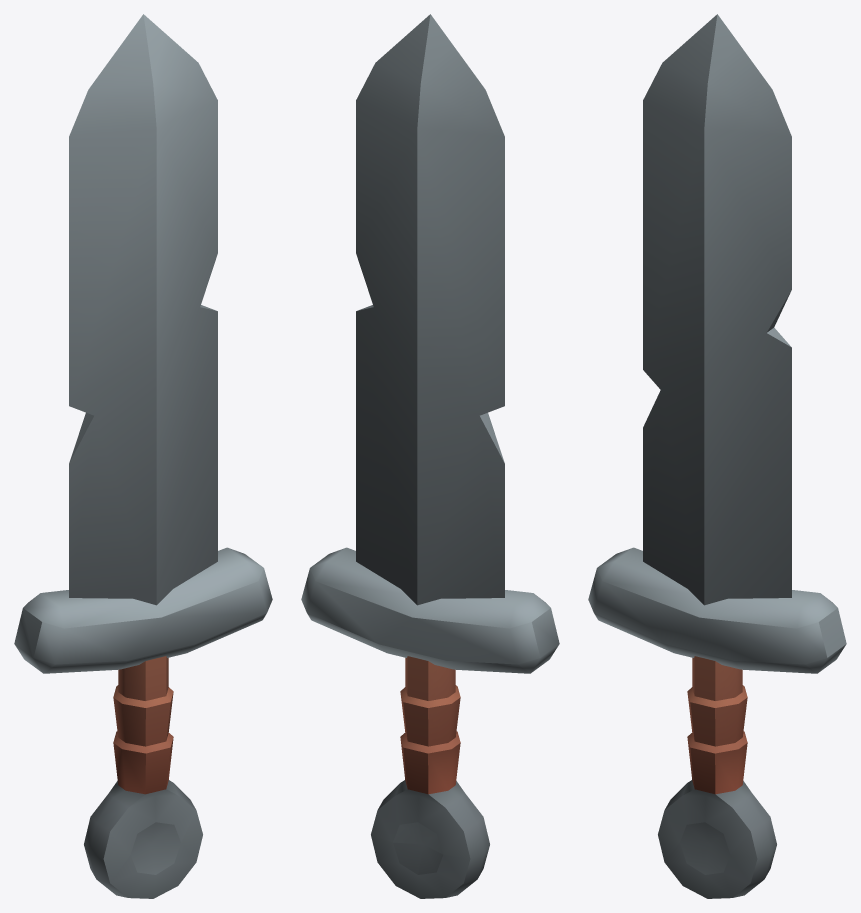
File: espada.glb
The picture shows the model from 3 angles, left to right: view 1: azimuth 30°, elevation 25°; view 2: azimuth 150°, elevation 25°; view 3: azimuth 330°, elevation 25°; orthographic projection.
Parts seen in each view (by area): view 1: sword_1handed; view 2: sword_1handed; view 3: sword_1handed.
Part boxes in pixels (<box>): sword_1handed: <box>14,14,272,898</box>; sword_1handed: <box>301,14,559,898</box>; sword_1handed: <box>588,14,846,898</box>.
Bounding box in the file's own units: 0.5034 × 1.78 × 0.1306.
1 material, 1 textured.
